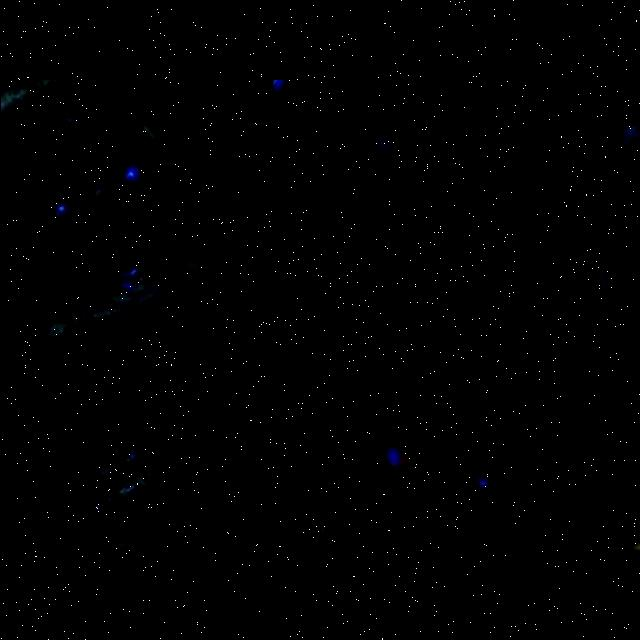microbeads: (631, 542, 640, 555)
